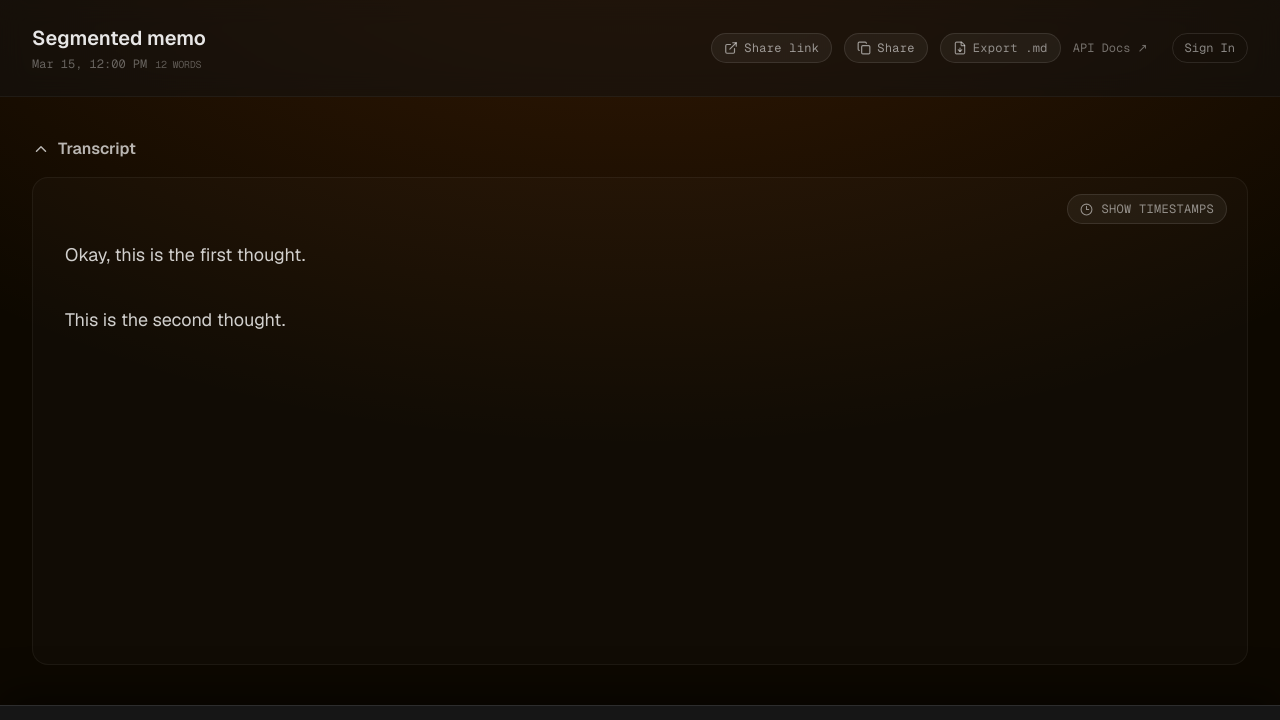
Test: MemoDetailView › defaults to spaced transcript paragraphs and lets the user toggle timestamps on
Expected: the number of elements with class "transcript-segment" is 2, [65, 243, 305, 266]; [65, 308, 285, 331]
Expected: the element with class "transcript-segment" does not show "0:00", [65, 243, 305, 266]
Click the button "Show timestamps". click: {"x": 1147, "y": 209}
box: [1068, 194, 1227, 224]
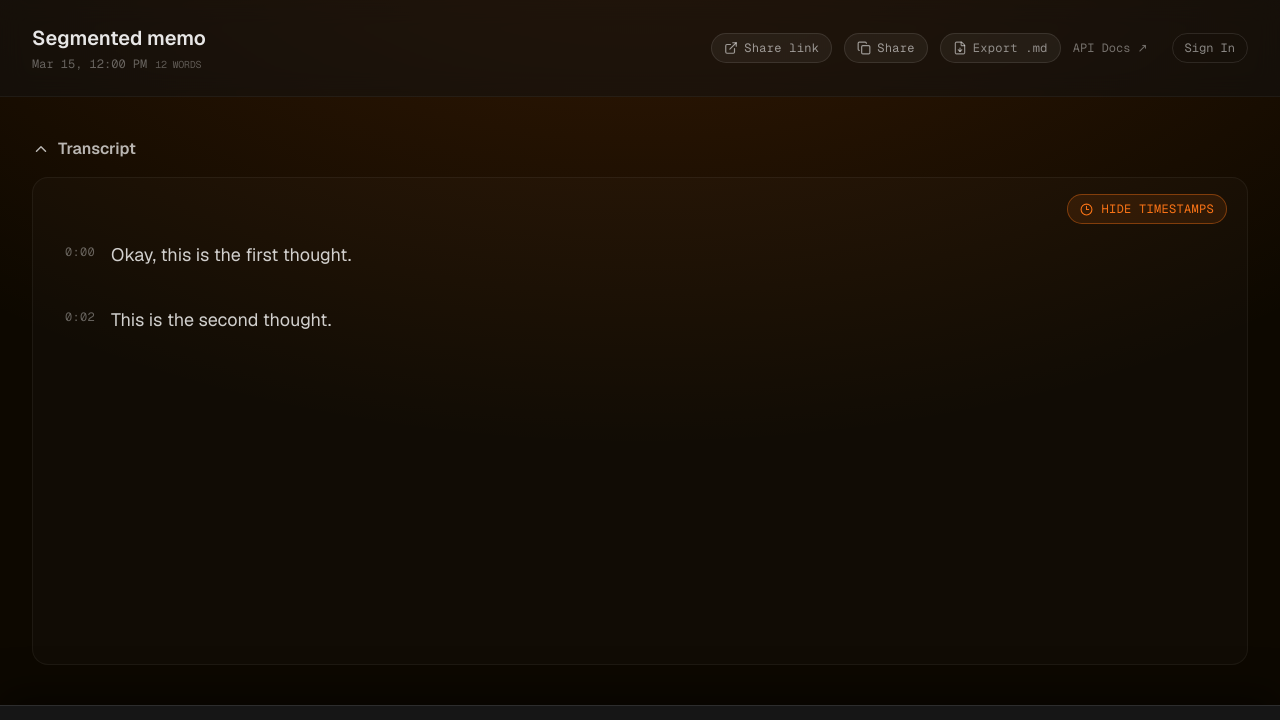
Expected: the number of elements with class "transcript-segment" is 2, [65, 243, 351, 266]; [65, 308, 332, 331]
Now the element with class "transcript-segment" shows "0:00", box [65, 244, 95, 260]
Now the element with class "transcript-segment" shows "0:02", box [65, 309, 95, 325]
